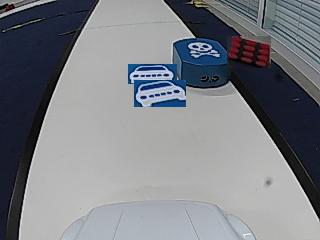danger: (188, 41, 219, 58)
